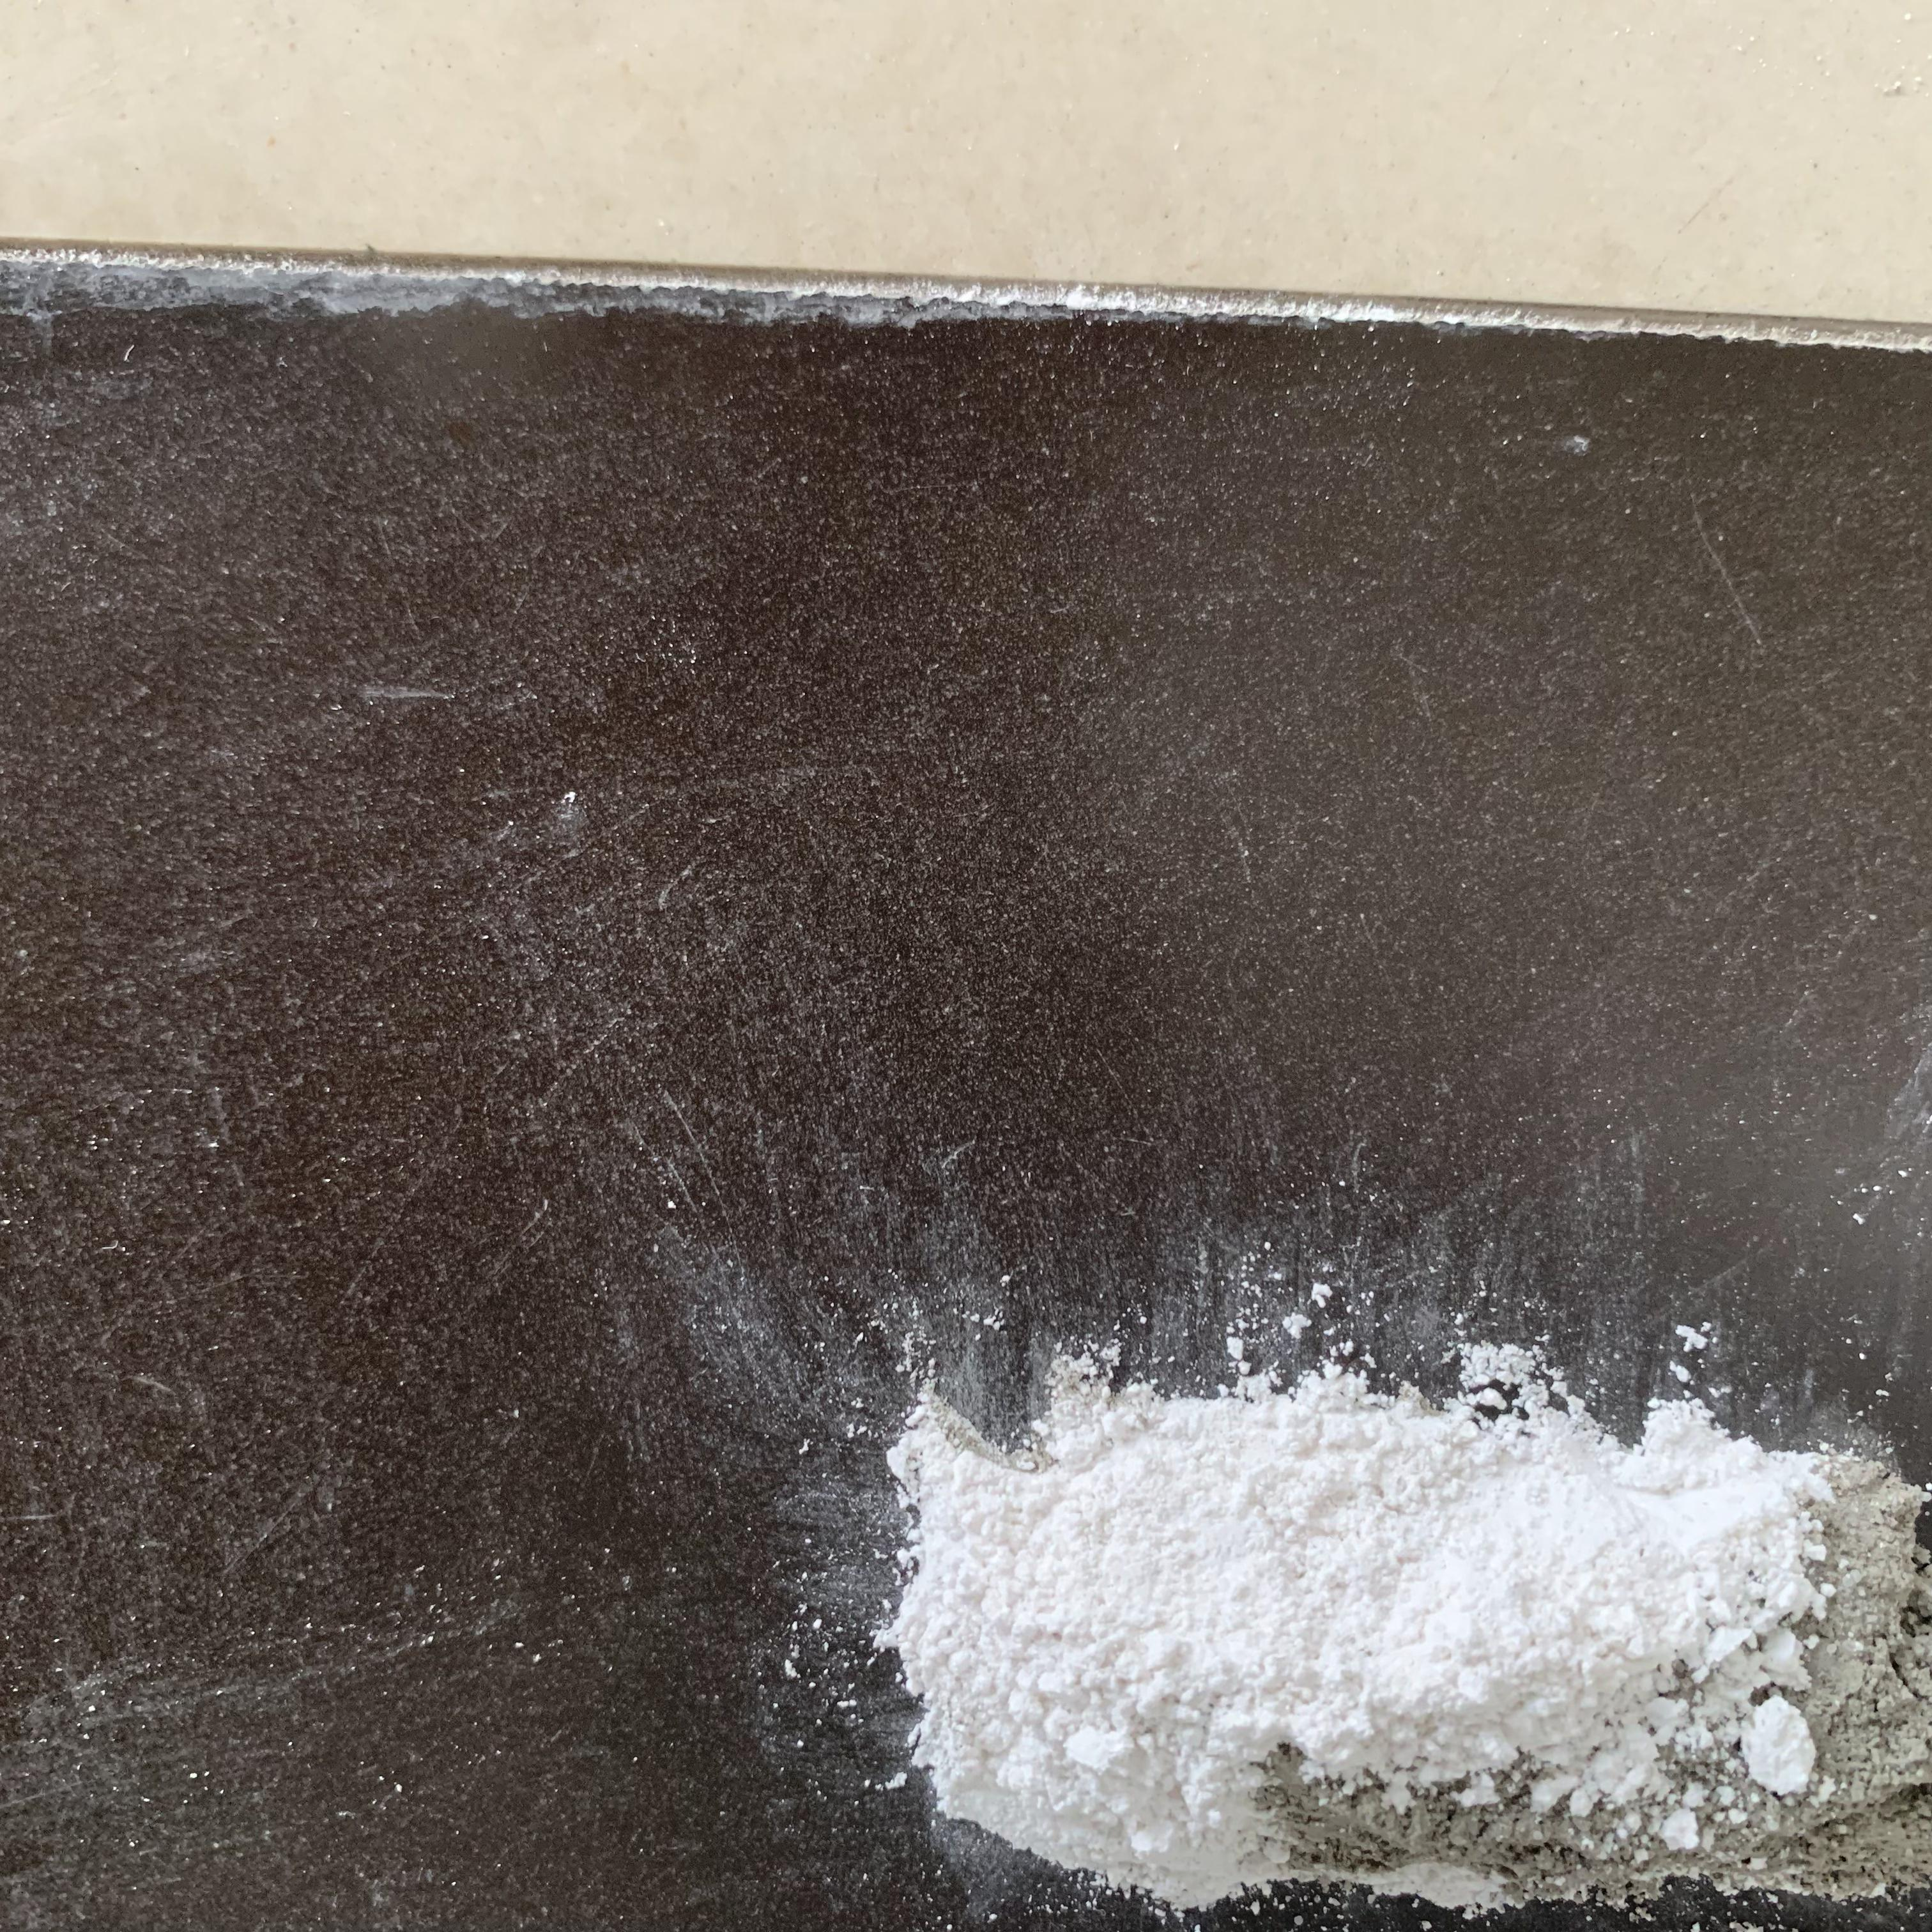ash pile: (858, 1253, 1932, 1932)
